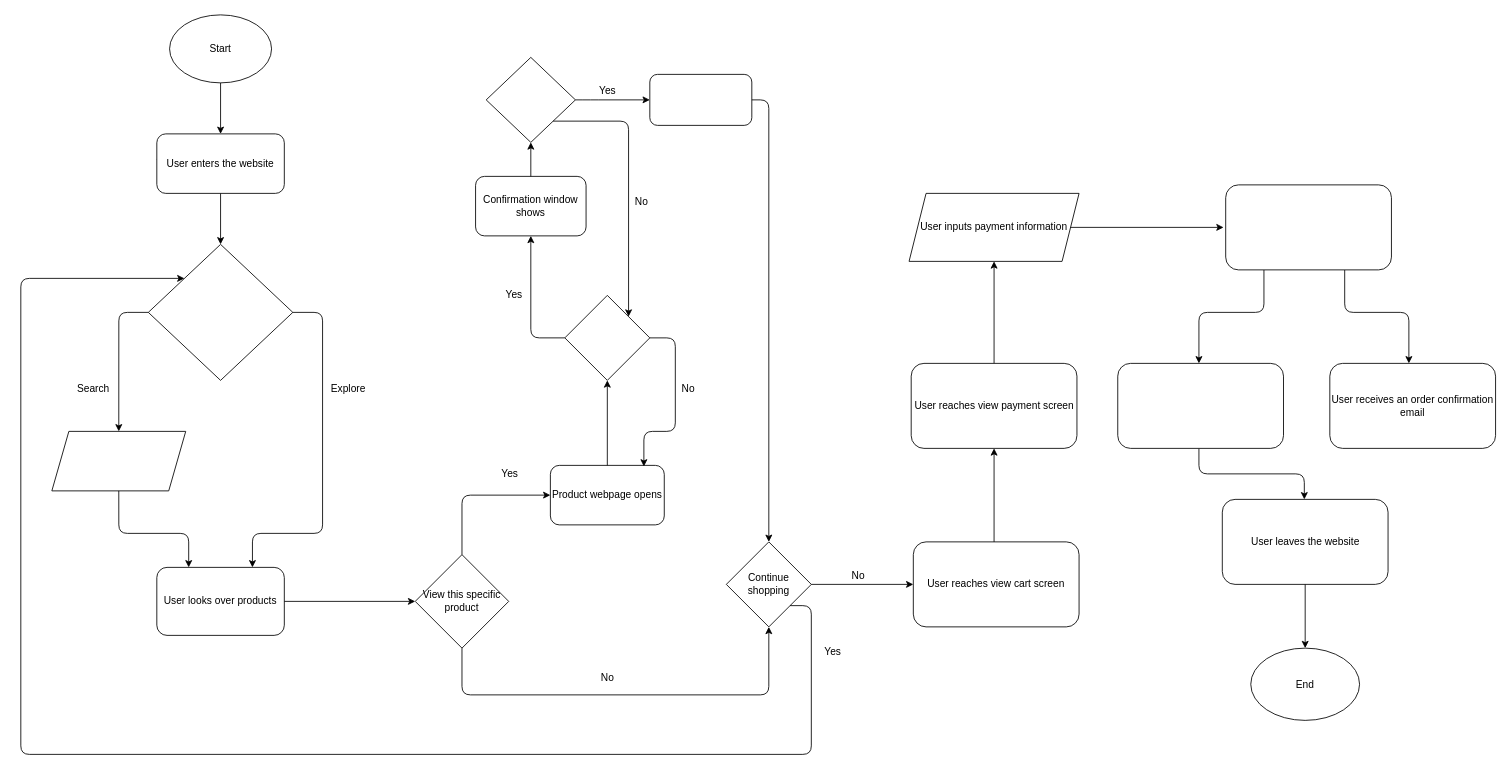
The diagram is 1510 pixels wide and 776 high, and some of its shapes have lost their labels. Each missing label, with the centre of its shape:
"add to cart" goes at (607,337).
"Adding success" goes at (700,99).
"Confirm to add" goes at (530,99).
"Input a product to search" goes at (118,461).
"Payment successful" goes at (1308,227).
"Search product or explore on homepage" goes at (220,312).
"User sees an order confirmation screen" goes at (1200,405).
